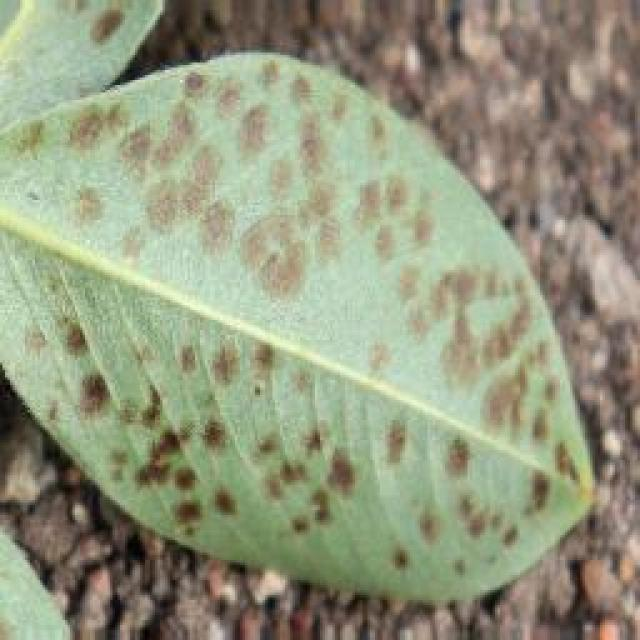Whitefly: (8, 0, 589, 595)
